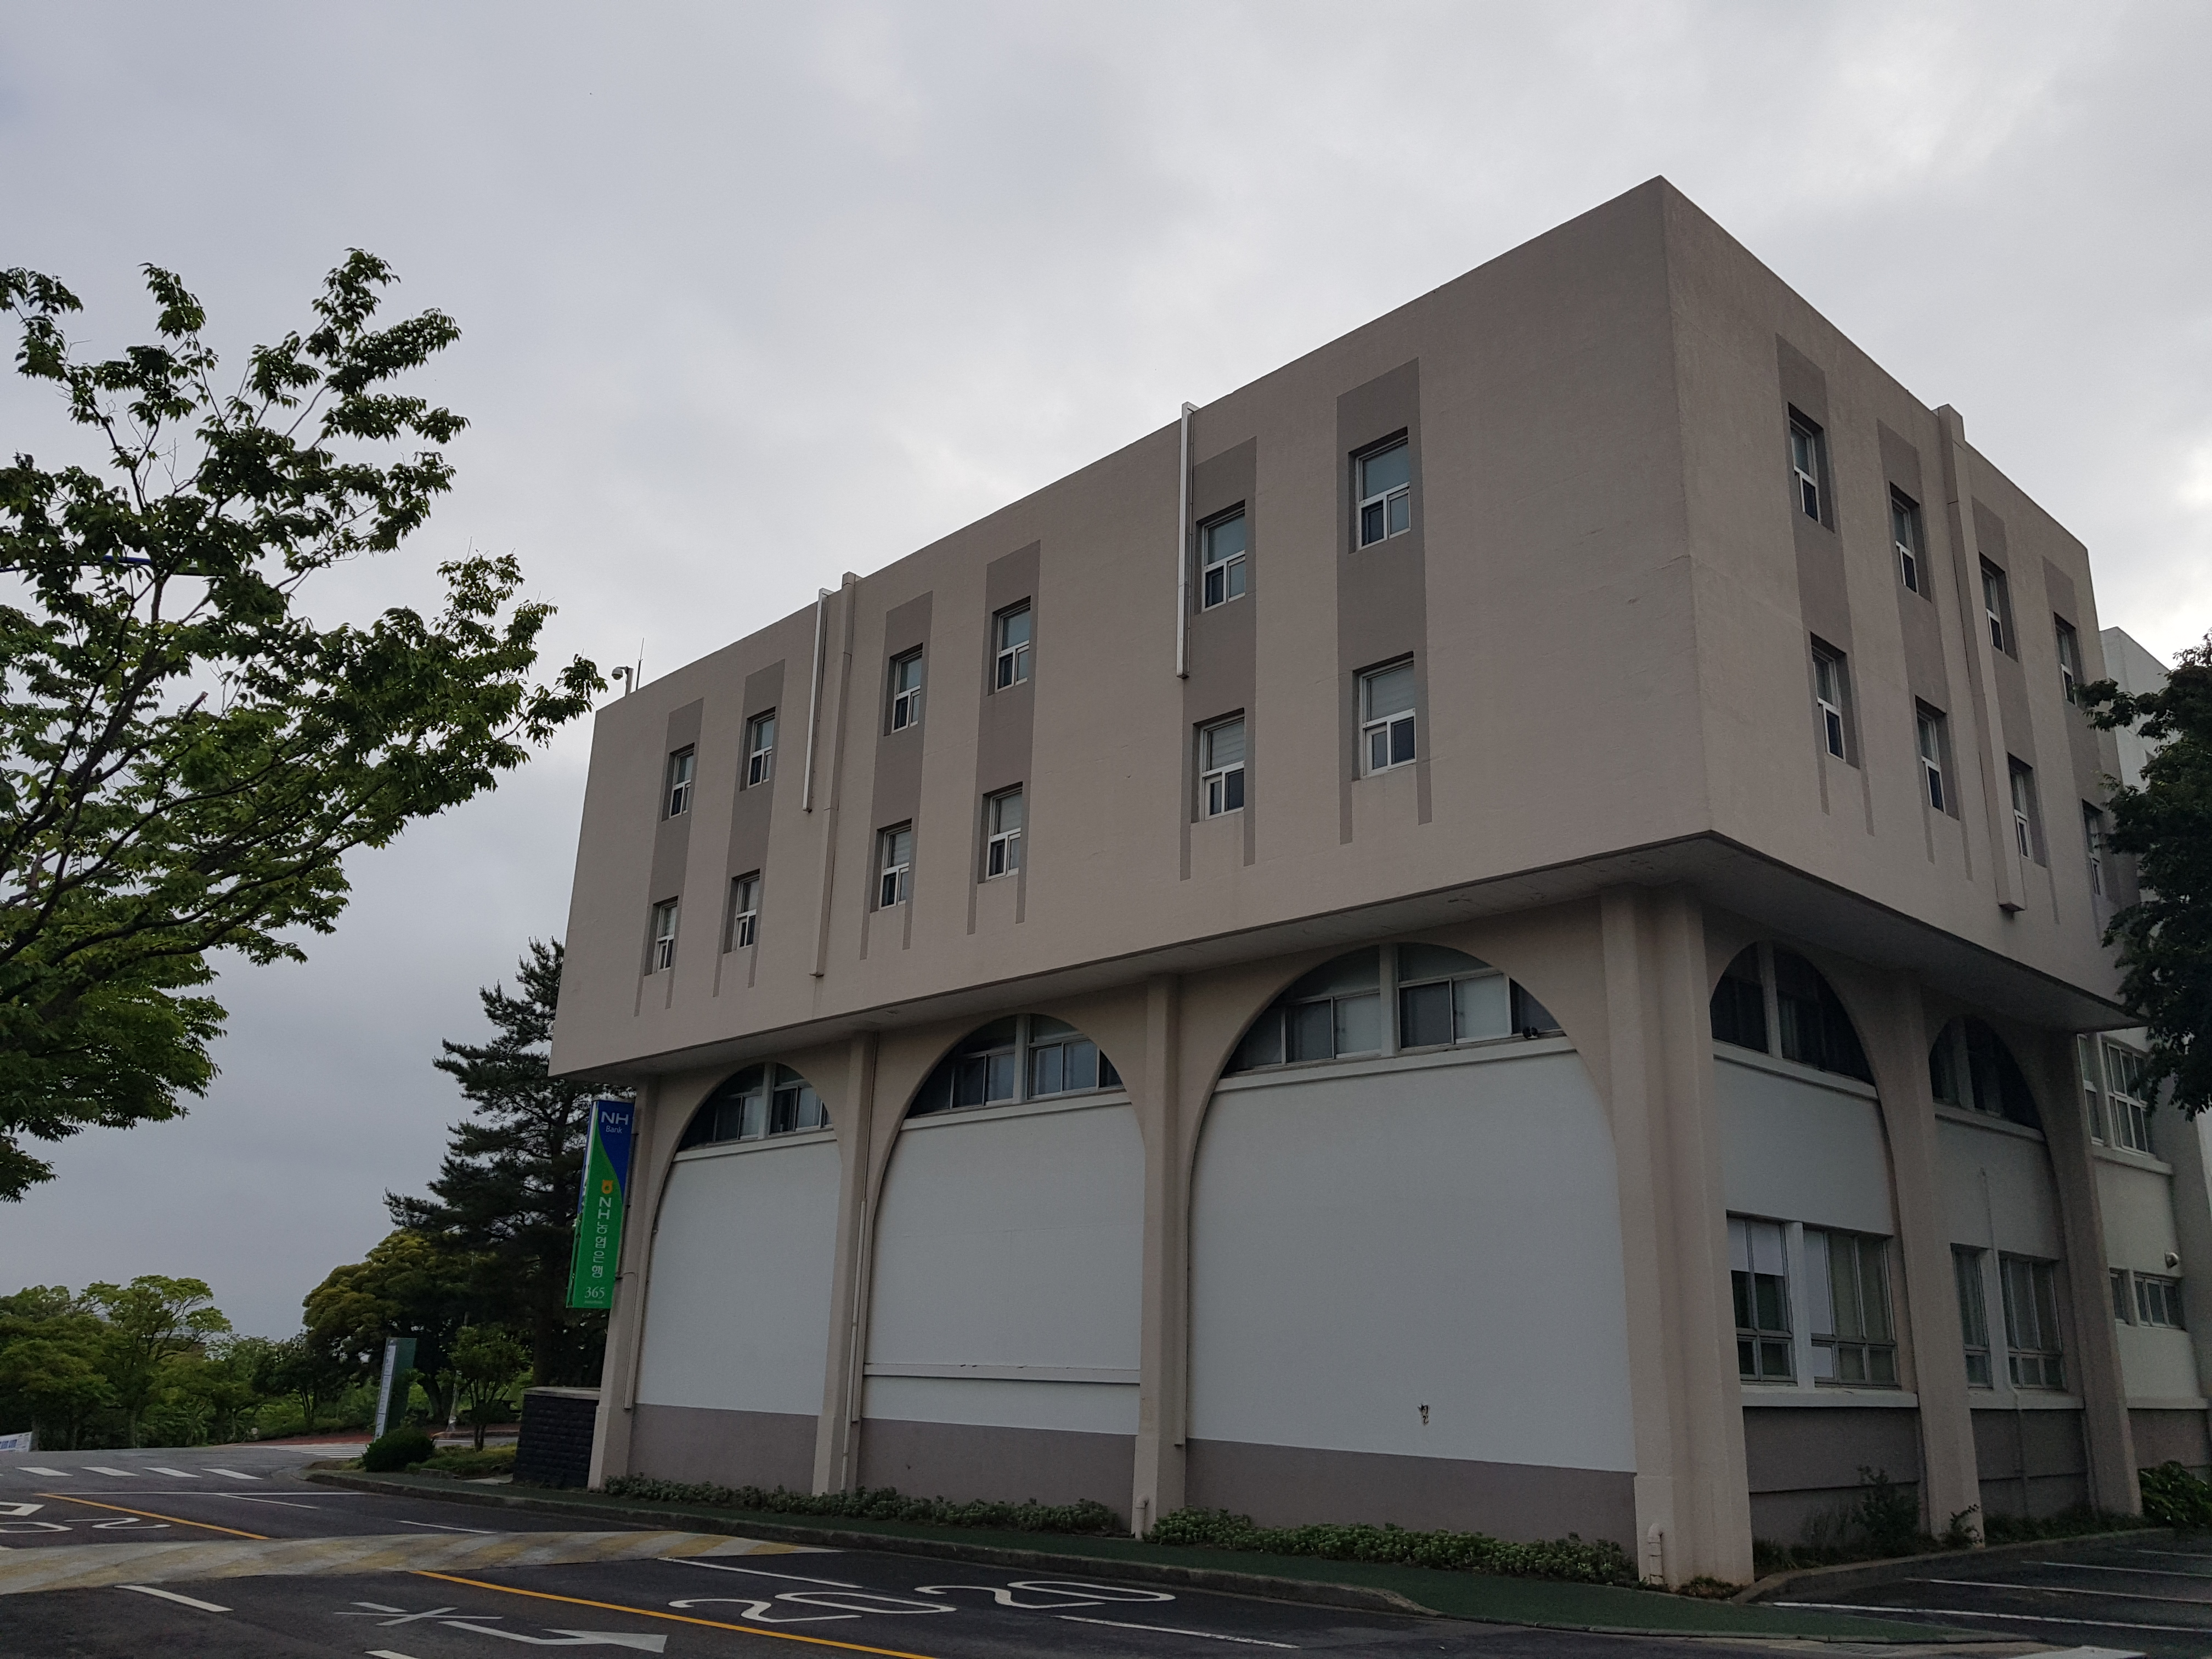Main Building of University: (536, 179, 2153, 1506), (597, 345, 1507, 939), (667, 920, 1608, 1155), (1136, 368, 1489, 849), (1743, 321, 1975, 892), (829, 507, 1092, 957), (1679, 906, 2083, 1169), (622, 633, 784, 1002), (563, 1068, 653, 1337)
